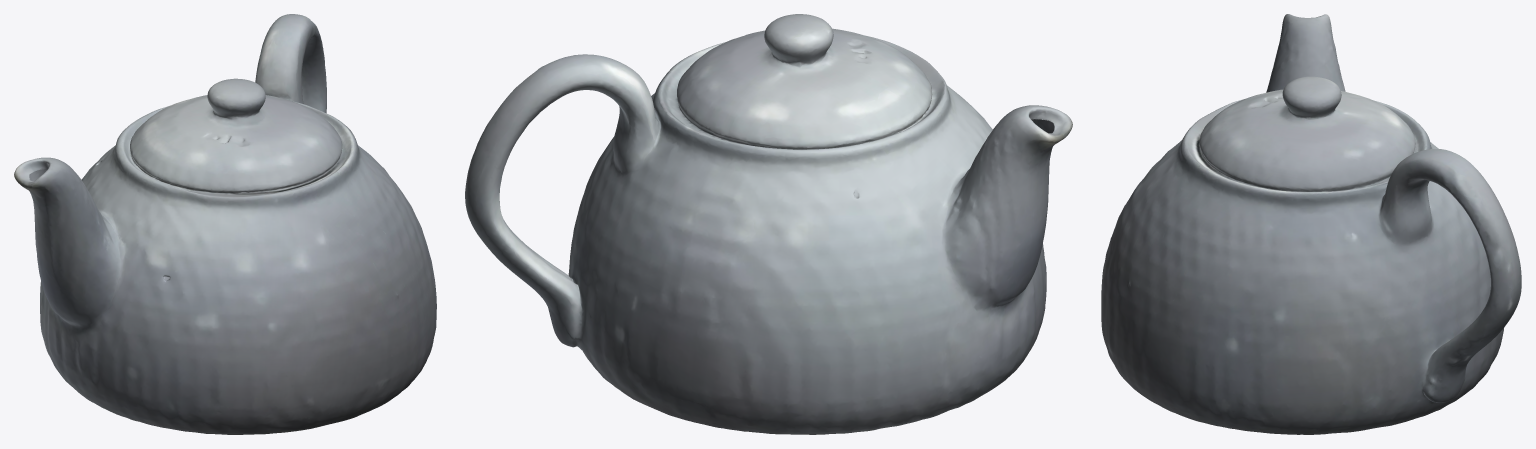
Rendered from Threshold_Porcelain_Teapot_White.glb.
3 views of the same model, side by side, from view 1: azimuth 30°, elevation 25°; view 2: azimuth 150°, elevation 25°; view 3: azimuth 270°, elevation 25° (orthographic). The views are drawn at different scales.
Visible parts, largest first — view 1: geometry_0; view 2: geometry_0; view 3: geometry_0.
Boxes of the visible parts, left/top/right/bottom form: geometry_0: left=14, top=14, right=436, bottom=434; geometry_0: left=465, top=14, right=1072, bottom=434; geometry_0: left=1101, top=14, right=1521, bottom=434.
Bounding box in the file's own units: 0.9426 × 0.6175 × 0.8432.
1 material, 1 textured.
